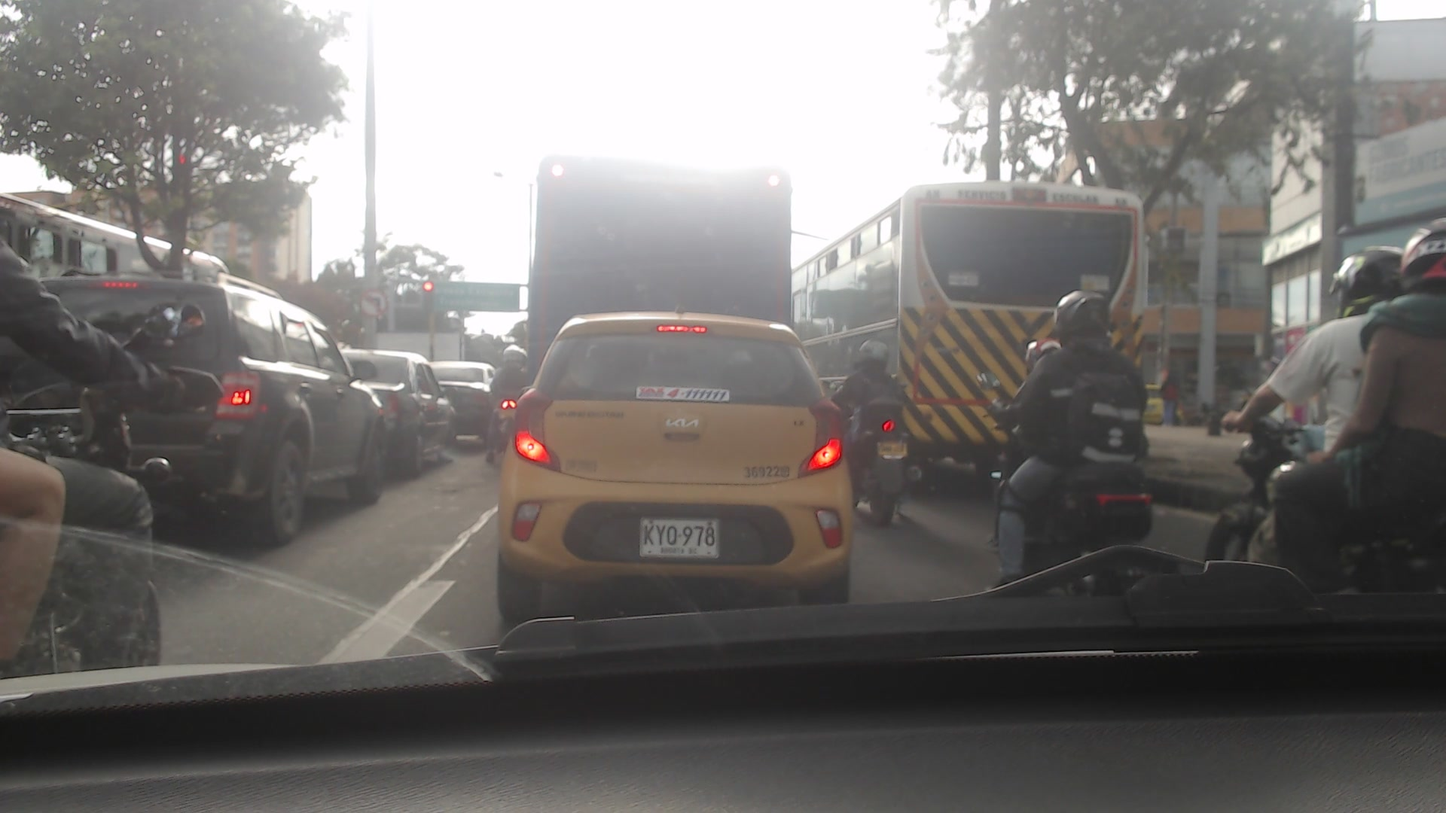bus: (784, 179, 1163, 488)
car: (496, 319, 851, 625), (17, 267, 393, 512), (324, 342, 462, 469), (421, 350, 494, 450)
motorcycle: (485, 395, 524, 456)
person: (1253, 247, 1376, 512), (1012, 284, 1151, 476), (1365, 214, 1446, 525), (830, 332, 922, 434), (494, 342, 531, 395)
truck: (527, 148, 799, 335)
